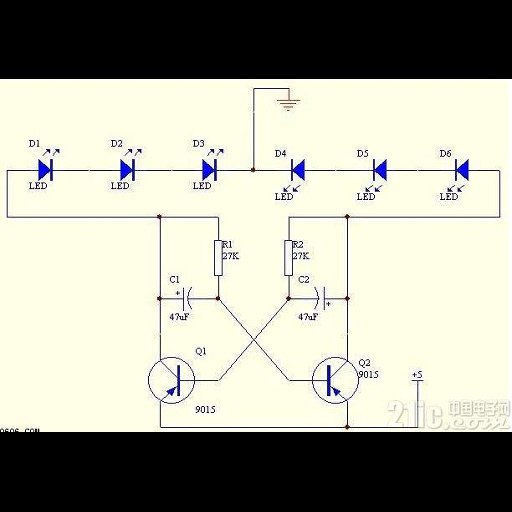firstled: (276, 159, 314, 193), (197, 148, 234, 182), (359, 159, 396, 193), (114, 147, 149, 182), (33, 148, 67, 182), (442, 159, 476, 193)
firstpolarcapacitor: (309, 283, 335, 312), (173, 284, 199, 312)
firstresistance: (207, 234, 224, 282), (279, 237, 294, 280)
pnp: (320, 361, 349, 400), (160, 360, 186, 401)
